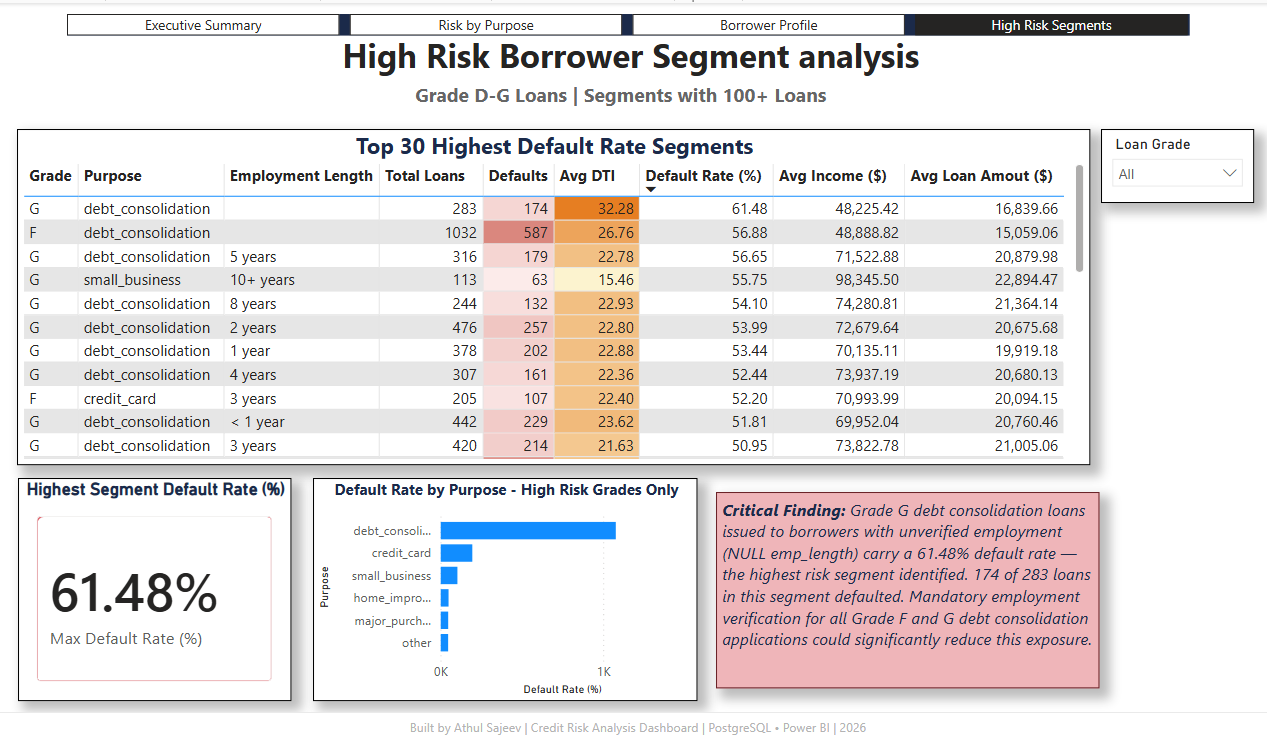

What the dashboard file says about the page in this screenshot:
{"tool":"powerbi","page":{"name":"High Risk Segments","canvas":[1280,720],"ordinal":3},"visuals":[{"type":"textbox","box":[347.2,23.3,584.6,62.2],"z":0},{"type":"textbox","box":[418.2,71,442.6,43.8],"z":1000},{"type":"tableEx","title":"Top 30 Highest Default Rate Segments","fields":{"Values":["query5_high_risk_segments.grade","query5_high_risk_segments.purpose","query5_high_risk_segments.emp_length","Sum(query5_high_risk_segments.total_loans)","query5_high_risk_segments.defaults","Sum(query5_high_risk_segments.avg_dti)","query5_high_risk_segments.default_rate_pct","Sum(query5_high_risk_segments.avg_income)","Sum(query5_high_risk_segments.avg_loan_amount)"]},"box":[36,122.6,1043.6,326.8],"z":2000},{"type":"cardVisual","title":"Highest Segment Default Rate (%)","fields":{"Data":["query5_high_risk_segments.MAX Default Rate"]},"box":[37,462,265.5,216.9],"z":3000},{"type":"clusteredBarChart","title":"Default Rate by Purpose - High Risk Grades Only","fields":{"Category":["query5_high_risk_segments.purpose"],"Y":["Sum(query5_high_risk_segments.default_rate_pct)"]},"box":[323.9,462,374.5,216.9],"z":4000},{"type":"textbox","box":[715.9,475.6,372.5,190.6],"z":5000},{"type":"slicer","fields":{"Values":["query5_high_risk_segments.grade"]},"box":[1090.3,122.6,148.8,72],"z":6000},{"type":"pageNavigator","box":[84.6,10.7,1092.3,21.4],"z":7000},{"type":"textbox","box":[0,689.6,1280,30.2],"z":8000}]}

Visuals, with their boxes on the page's 1280x720 design canvas (x1, y1, x2, y2). These are canvas units, not pixel positions in the 1267x741 screenshot, which may show the page scaled, cropped or inside an application window:
textbox: l=347, t=23, r=932, b=86
textbox: l=418, t=71, r=861, b=115
"Top 30 Highest Default Rate Segments" tableEx: l=36, t=123, r=1080, b=449
"Highest Segment Default Rate (%)" cardVisual: l=37, t=462, r=302, b=679
"Default Rate by Purpose - High Risk Grades Only" clusteredBarChart: l=324, t=462, r=698, b=679
textbox: l=716, t=476, r=1088, b=666
slicer - query5_high_risk_segments.grade: l=1090, t=123, r=1239, b=195
pageNavigator: l=85, t=11, r=1177, b=32
textbox: l=0, t=690, r=1280, b=720
